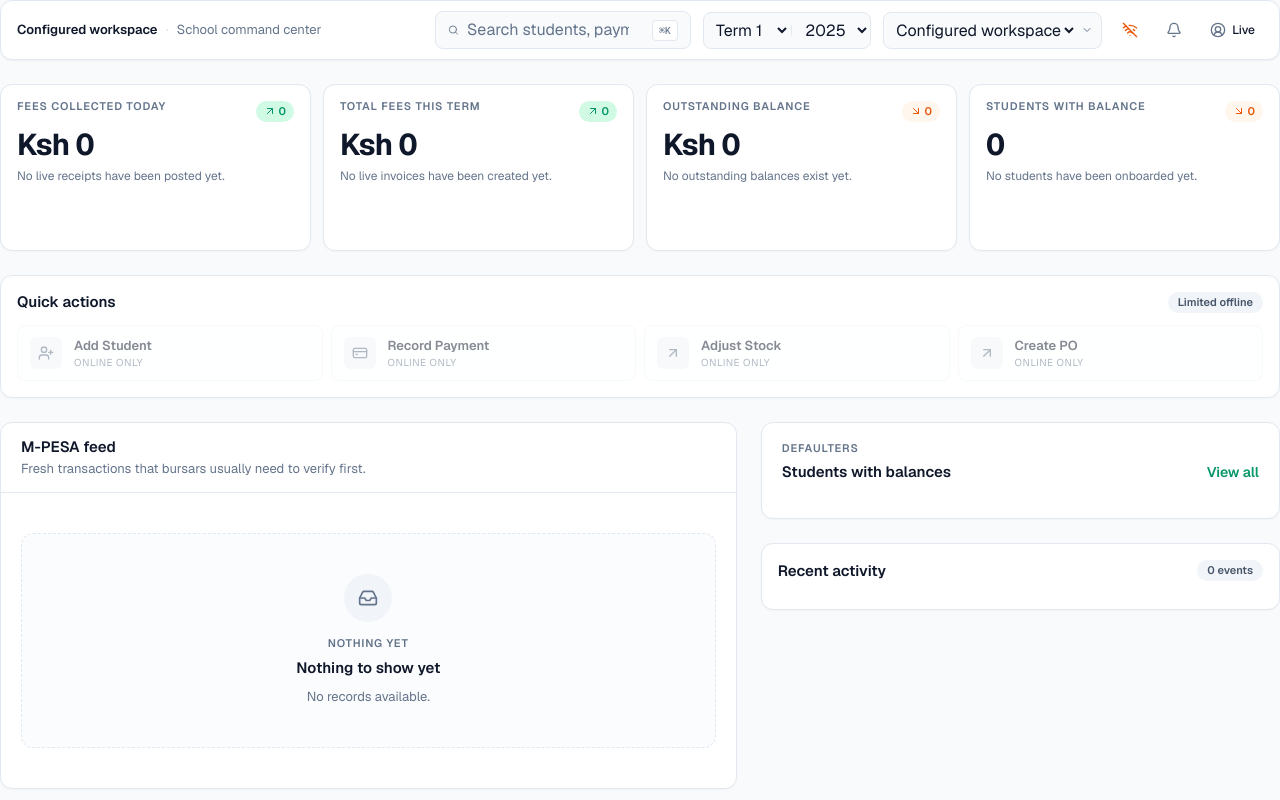
it: STEP 6: Offline UI tests › shows sync state and pending work in offline mode
Click the button named "offline queue status".
click(1130, 30)  # box [1114,14,1146,46]
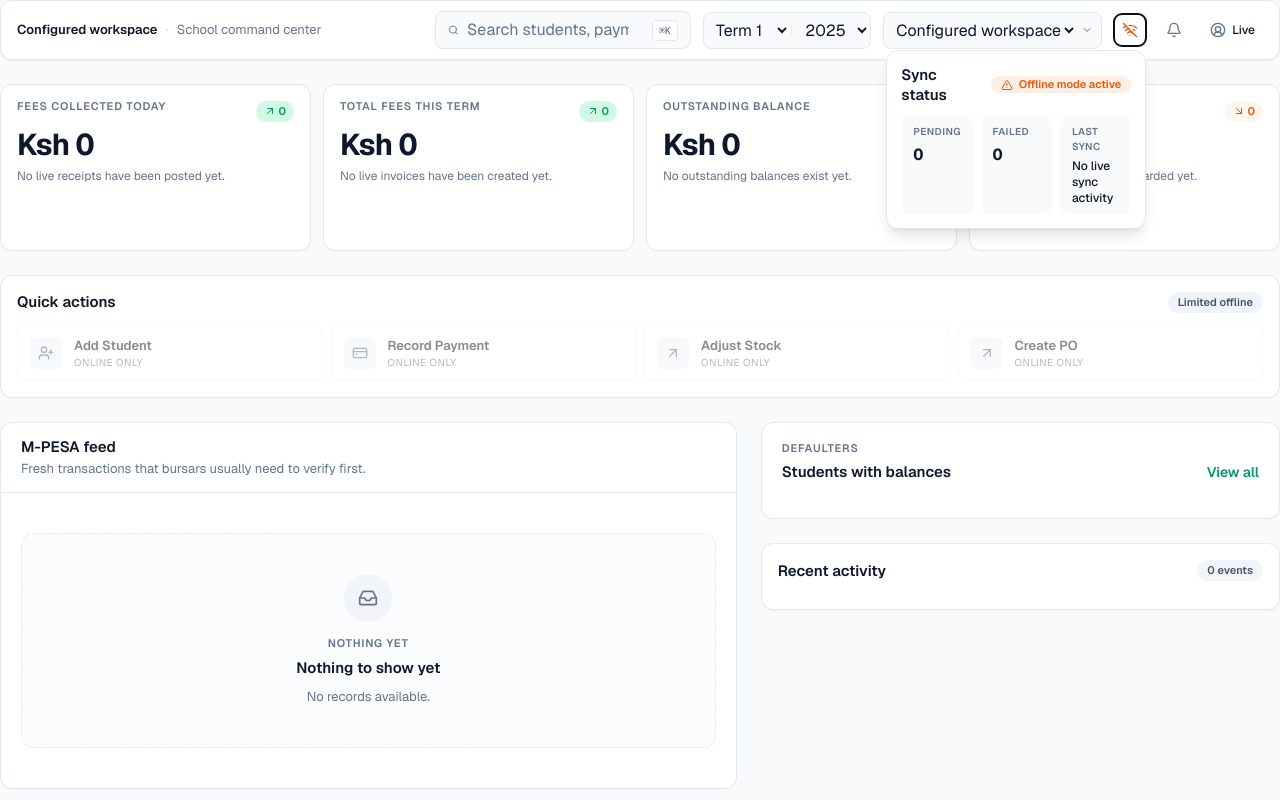
Result: the element with test id "sync-panel" is shown at [886,50,1146,229]
Result: the text "Offline mode active" is shown at [991,76,1131,93]
Result: the text "Pending" is shown at [913,124,961,139]
